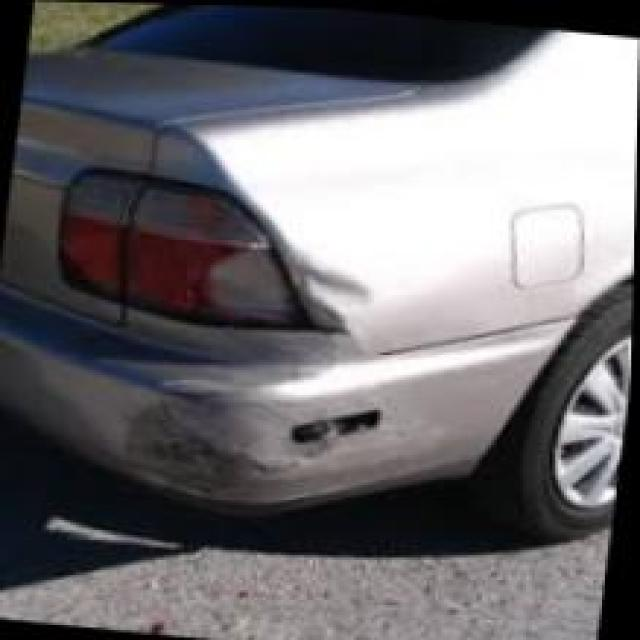Bumper: (1, 300, 549, 504)
Fender: (160, 92, 578, 355)
Light: (123, 179, 325, 323)
